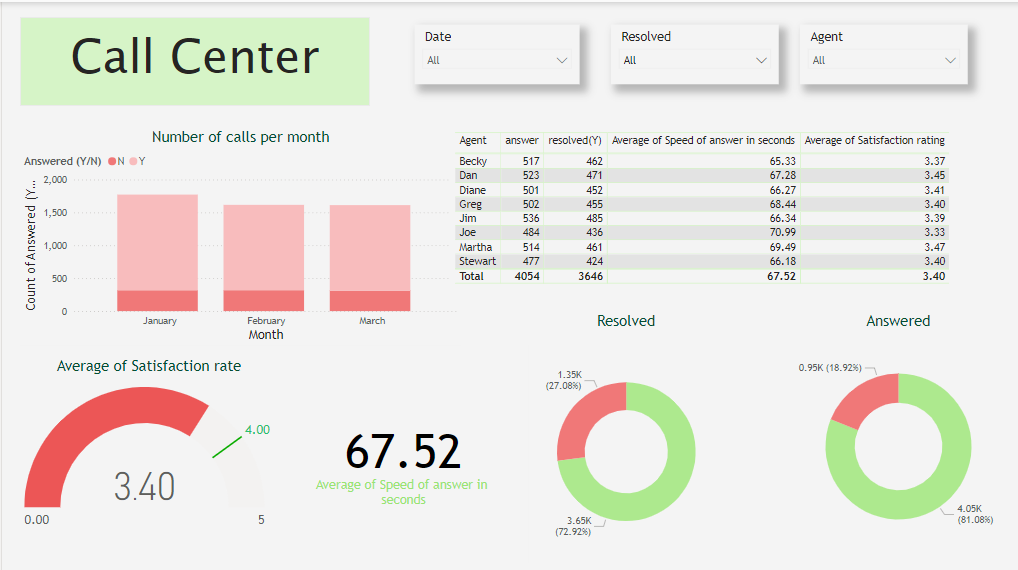

Layout of this report page (visuals, bound fields, positions):
{"tool":"powerbi","page":{"name":"Page 1","canvas":[1280,720],"ordinal":0},"visuals":[{"type":"gauge","title":"Average of Satisfaction rate","fields":{"Y":["Sheet1.Satisfaction rating"],"MaxValue":["Sheet1.Satisfaction rating"]},"box":[22.7,447.9,325,232.4],"z":0},{"type":"donutChart","title":"Answered ","fields":{"Category":["Sheet1.Answered (Y/N)"],"Y":["Sheet1.Answered (Y/N)"]},"box":[978.9,391.2,300.5,315.6],"z":1},{"type":"donutChart","title":"Resolved ","fields":{"Category":["Sheet1.Resolved"],"Y":["Sheet1.Resolved"]},"box":[640.6,391.2,291,328.8],"z":2},{"type":"card","fields":{"Values":["Sheet1.Speed of answer in seconds"]},"box":[347.7,432.8,315.6,274],"z":3},{"type":"columnChart","title":"Number of calls per month","fields":{"Category":["Sheet1.Date.Variation.Date Hierarchy.Month"],"Y":["Sheet1.Answered (Y/N)"],"Series":["Sheet1.Answered (Y/N)"]},"box":[22.7,158.7,555.6,274],"z":4},{"type":"tableEx","fields":{"Values":["Sheet1.Agent","Sheet1.answer","Sheet1.resolved(Y)","Sheet1.Speed of answer in seconds","Sheet1.Satisfaction rating"]},"box":[565,158.7,652,213.5],"z":5},{"type":"textbox","box":[22.7,18.9,440.3,111.5],"z":6},{"type":"slicer","fields":{"Values":["Sheet1.Date"]},"box":[519.7,28.3,207.9,75.6],"z":7},{"type":"slicer","fields":{"Values":["Sheet1.Resolved"]},"box":[767.2,28.3,211.7,75.6],"z":8},{"type":"slicer","fields":{"Values":["Sheet1.Agent"]},"box":[1005.4,28.3,211.7,75.6],"z":9}]}

Visuals, with their boxes in screenshot pixels (x1, y1, x2, y2), scaled from the page's 1280x720 canvas onto the 1018x570 screenshot:
"Average of Satisfaction rate" gauge: crop(18, 355, 277, 539)
"Answered " donutChart: crop(779, 310, 1017, 560)
"Resolved " donutChart: crop(509, 310, 741, 569)
card - Sheet1.Speed of answer in seconds: crop(277, 343, 528, 560)
"Number of calls per month" columnChart: crop(18, 126, 460, 343)
tableEx - Sheet1.Agent x Sheet1.answer: crop(449, 126, 968, 295)
textbox: crop(18, 15, 368, 103)
slicer - Sheet1.Date: crop(413, 22, 579, 82)
slicer - Sheet1.Resolved: crop(610, 22, 779, 82)
slicer - Sheet1.Agent: crop(800, 22, 968, 82)
